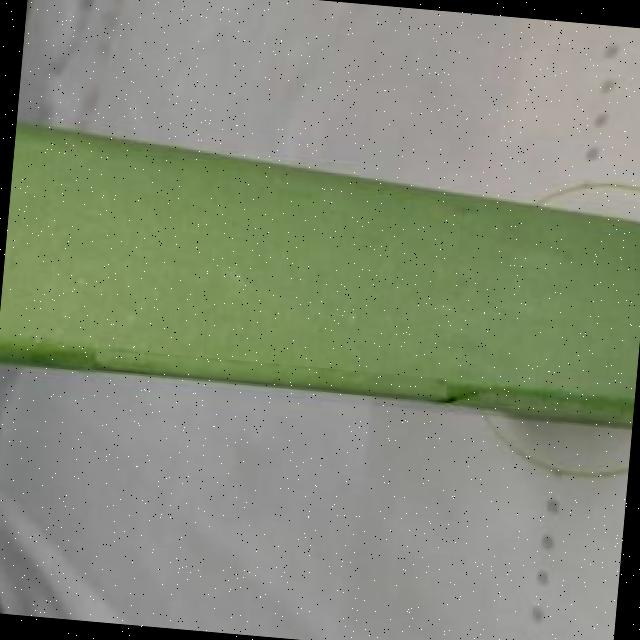greenbox: (0, 104, 640, 431)
